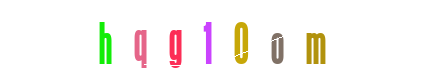0: (183, 0, 263, 80)
1: (171, 0, 251, 80)
G: (168, 0, 248, 80)
H: (64, 0, 144, 80)
M: (238, 0, 318, 80)
O: (237, 0, 317, 80)
Q: (119, 0, 199, 80)
